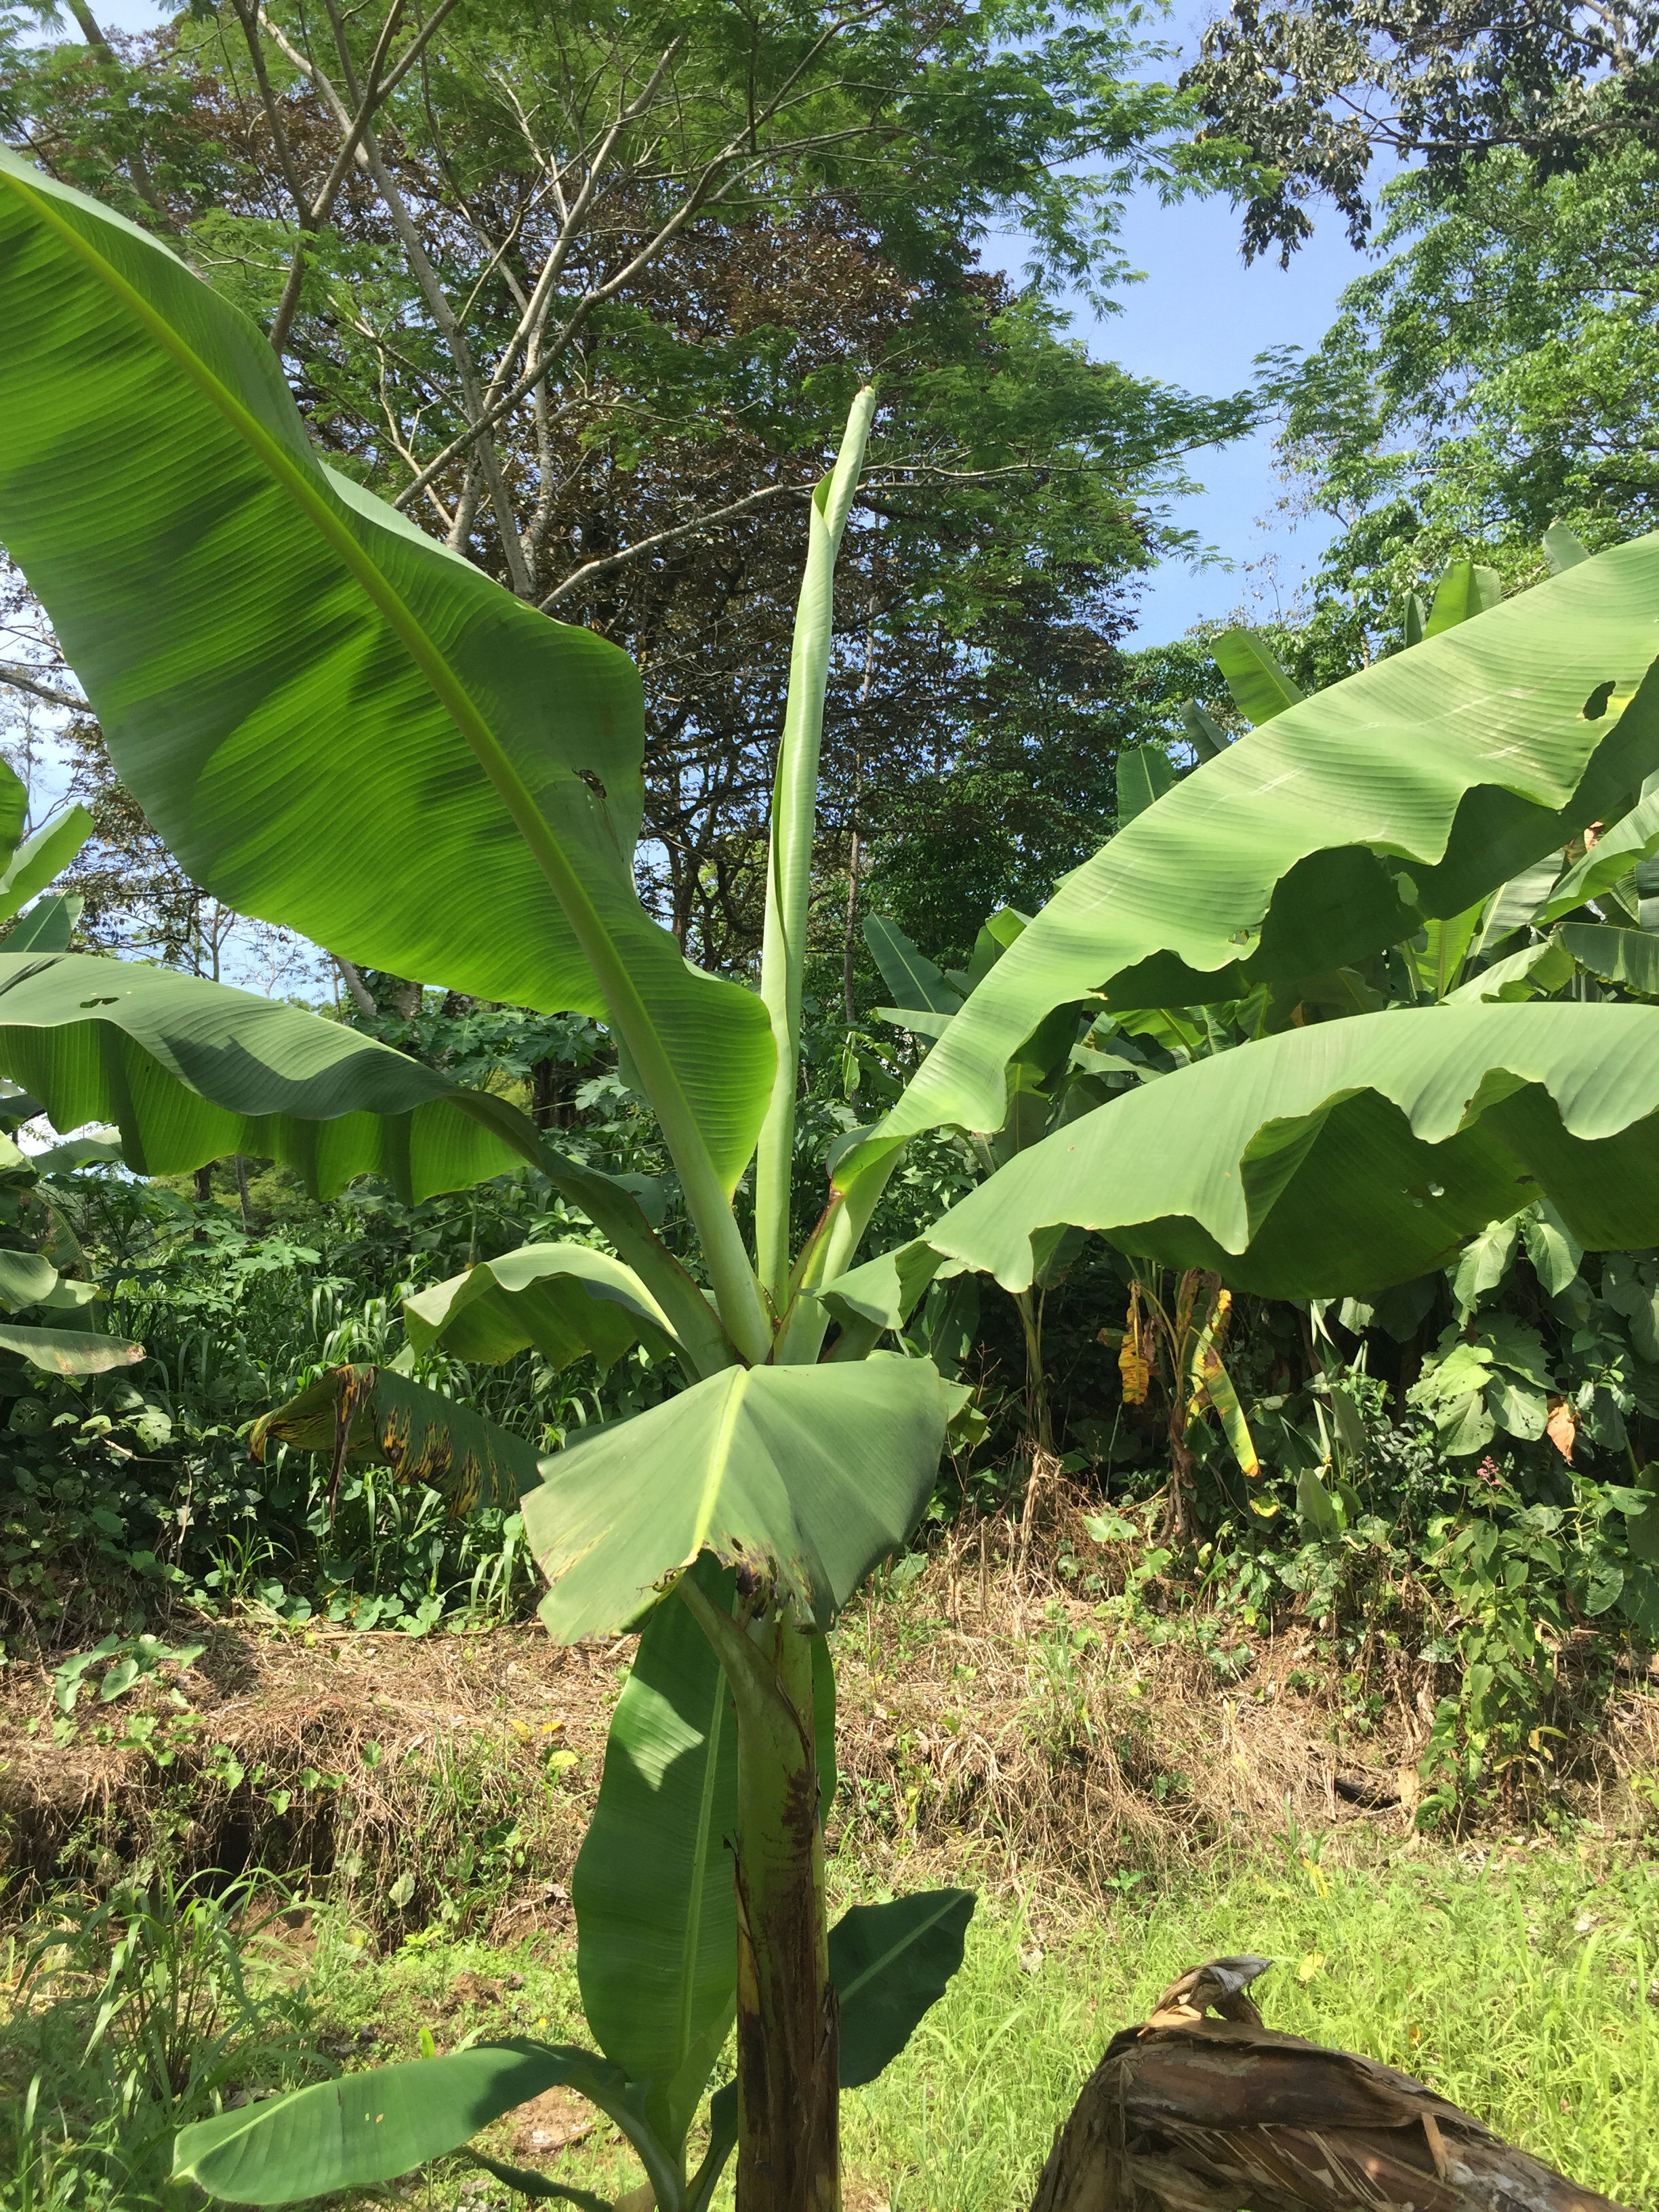candleleafs: (753, 387, 871, 1284)
